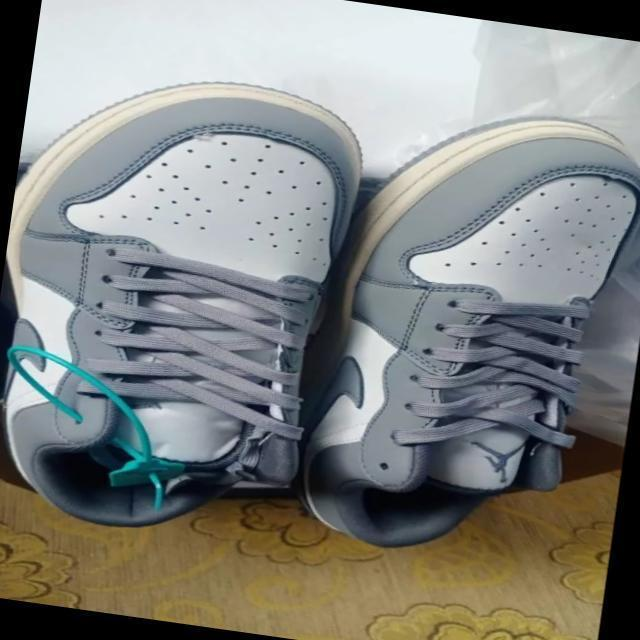nike fake jordan 1: (0, 54, 375, 559), (280, 85, 640, 580)
